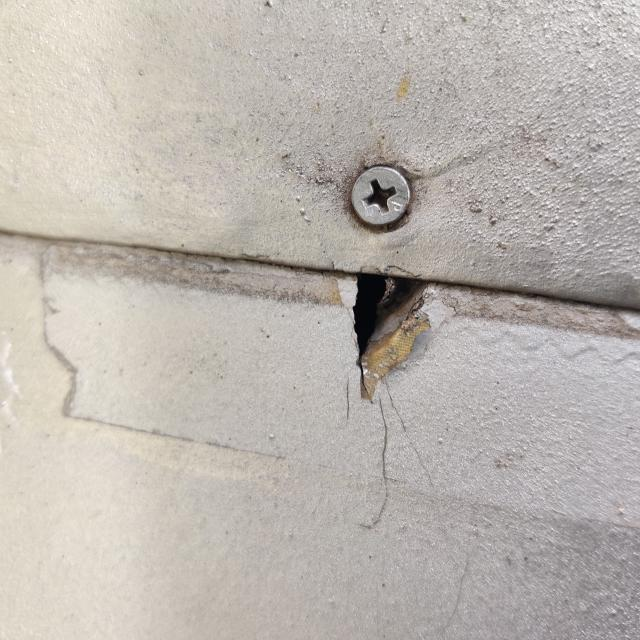crack: (305, 239, 473, 426)
